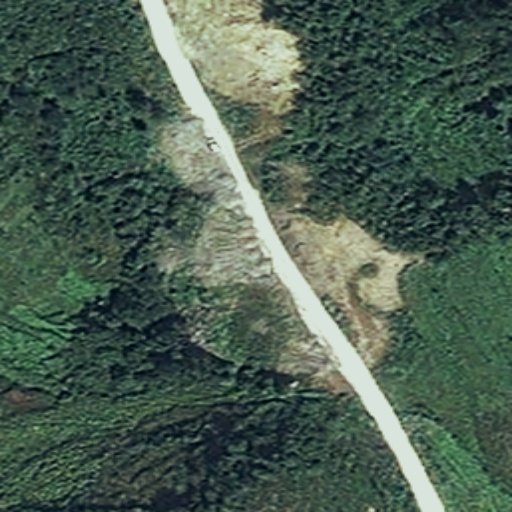landslide: (286, 214, 416, 359), (176, 1, 306, 127)
